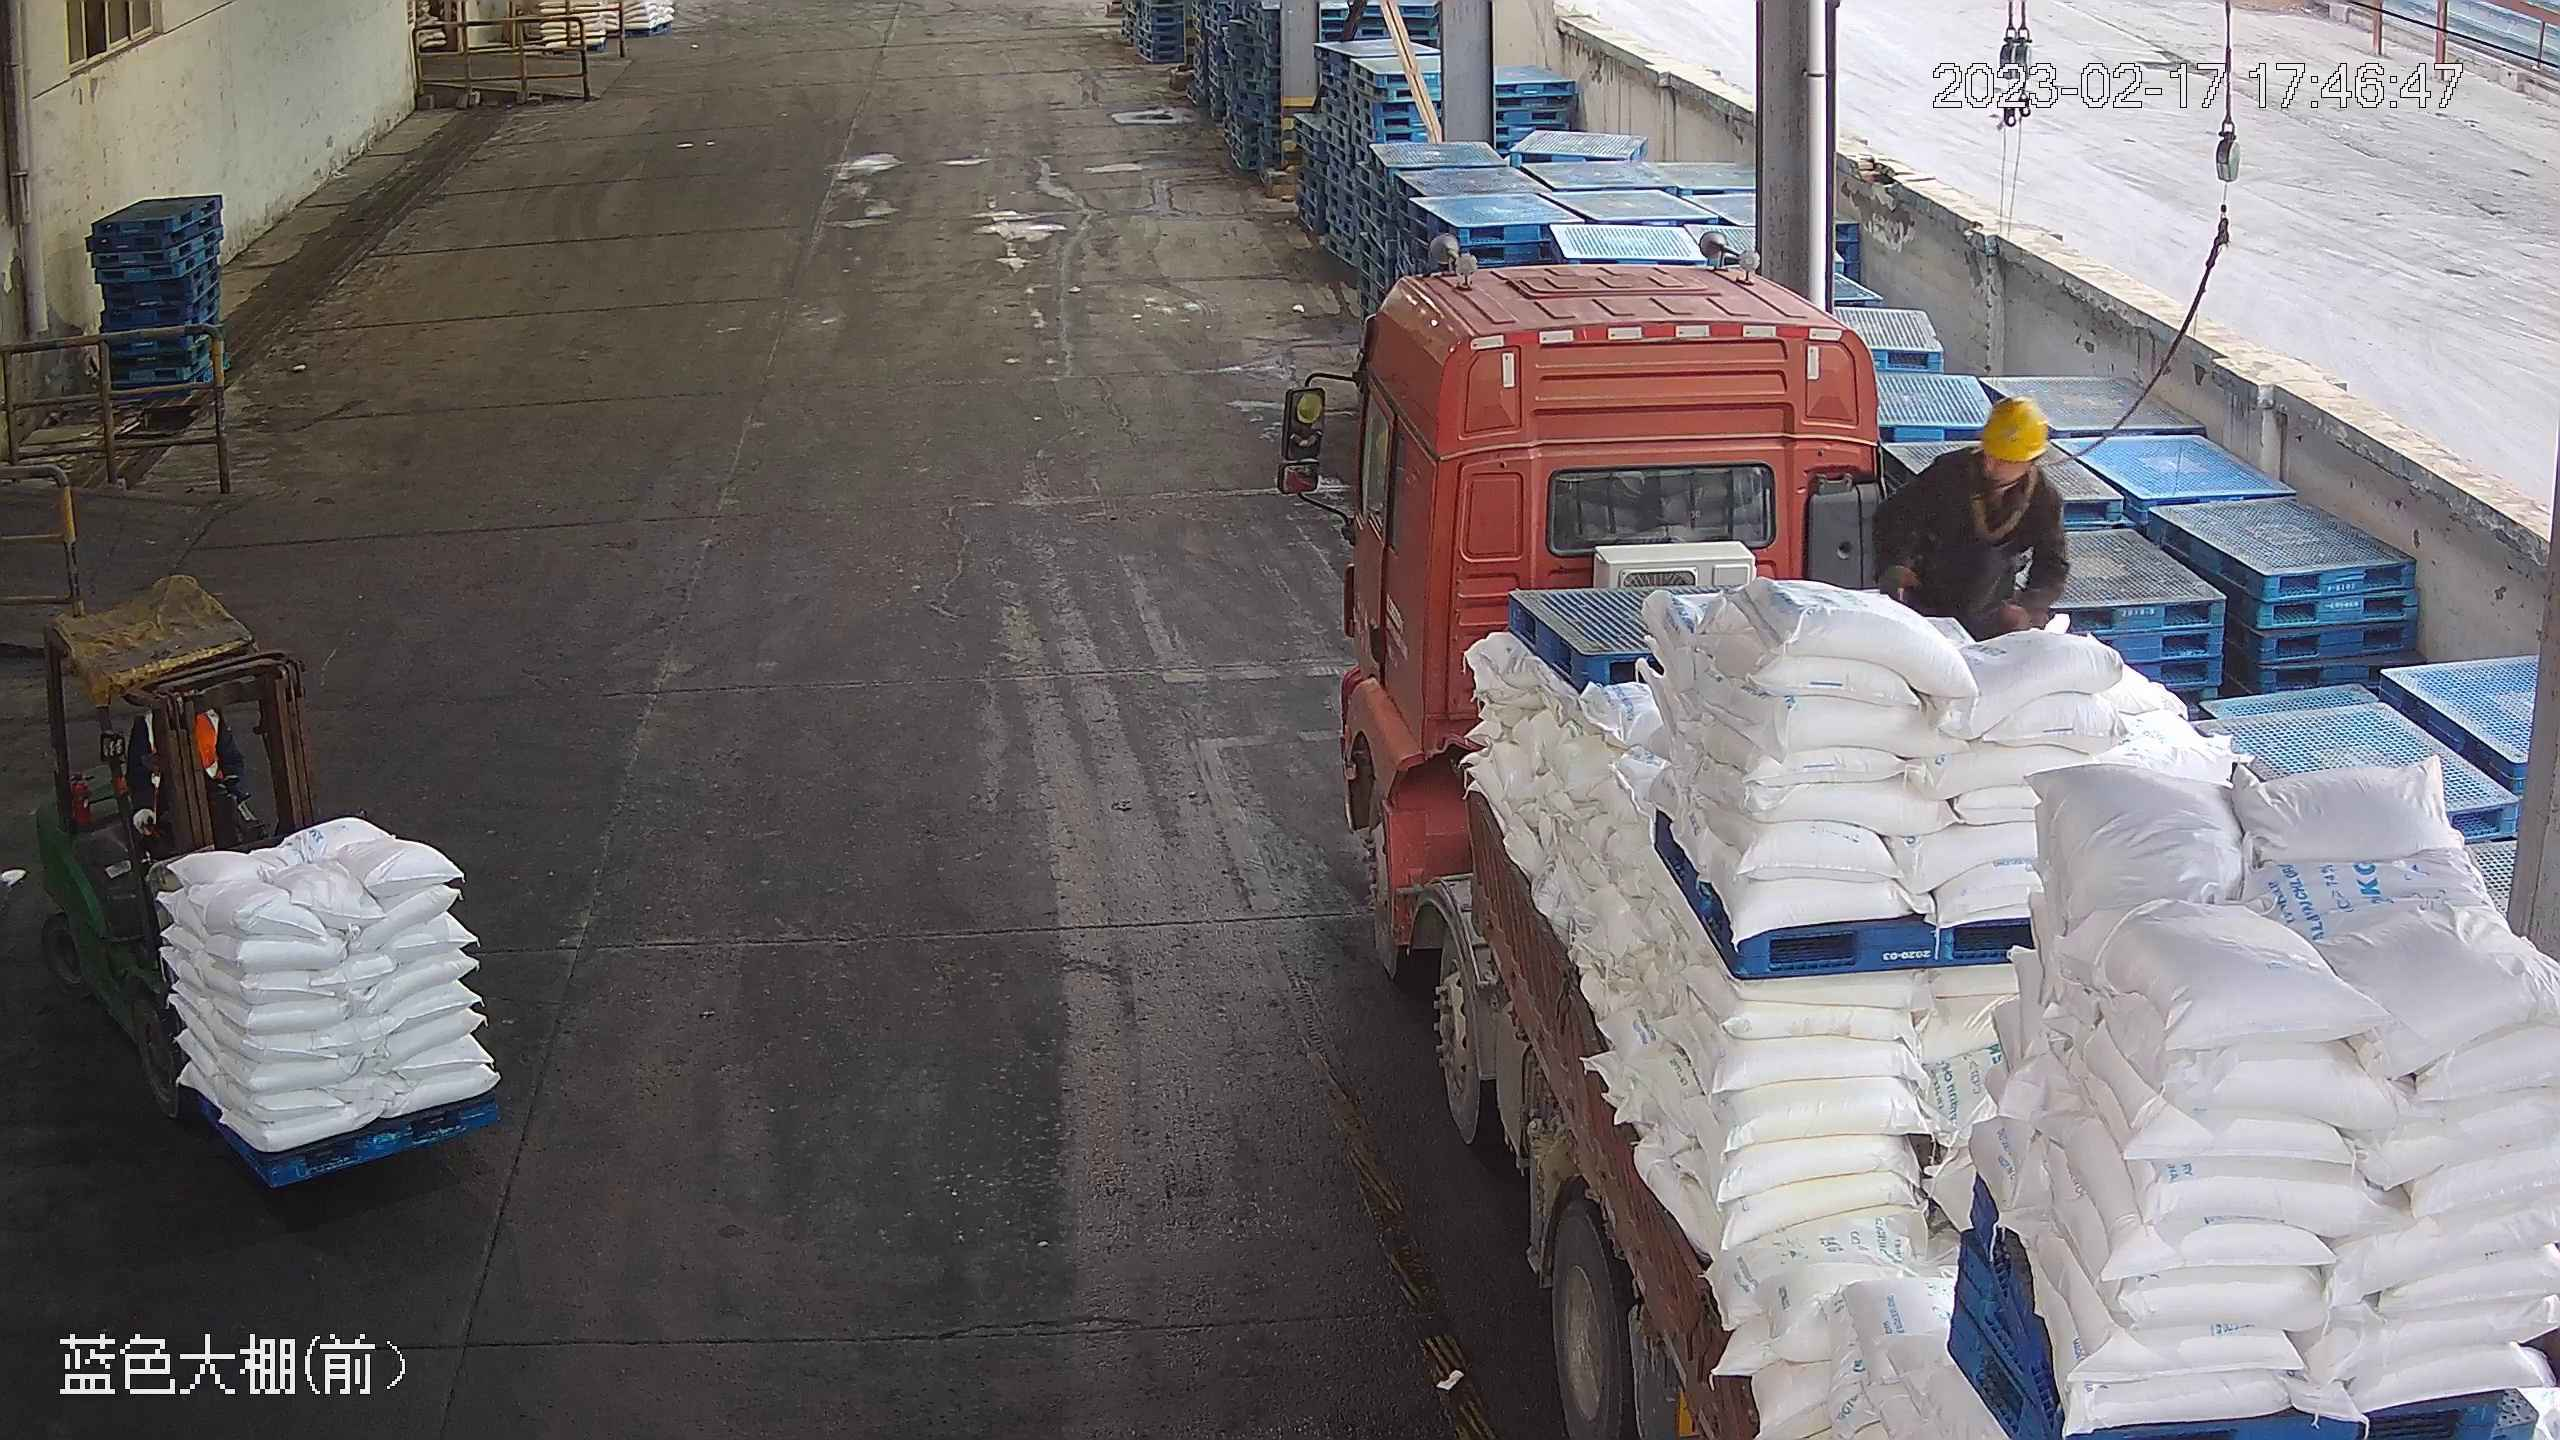belt: (1956, 473, 2033, 543)
head: (1920, 393, 2059, 533)
helmet: (1973, 393, 2052, 465)
people: (1878, 389, 2068, 653)
truck: (1276, 251, 2559, 1440)
